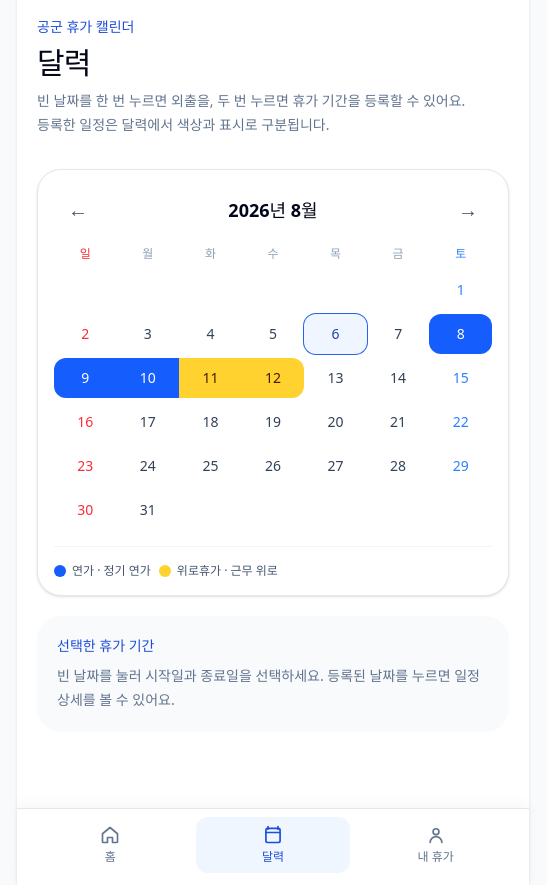
Test: 월간 달력 › 종류별 색상을 유지하면서 인접한 기록의 경계를 연결한다
This screenshot has width=547, height=885.
Click the button named "2026년 8월 10일, 연가". click: [148, 378]
box: [117, 358, 179, 398]
(page scrolled)
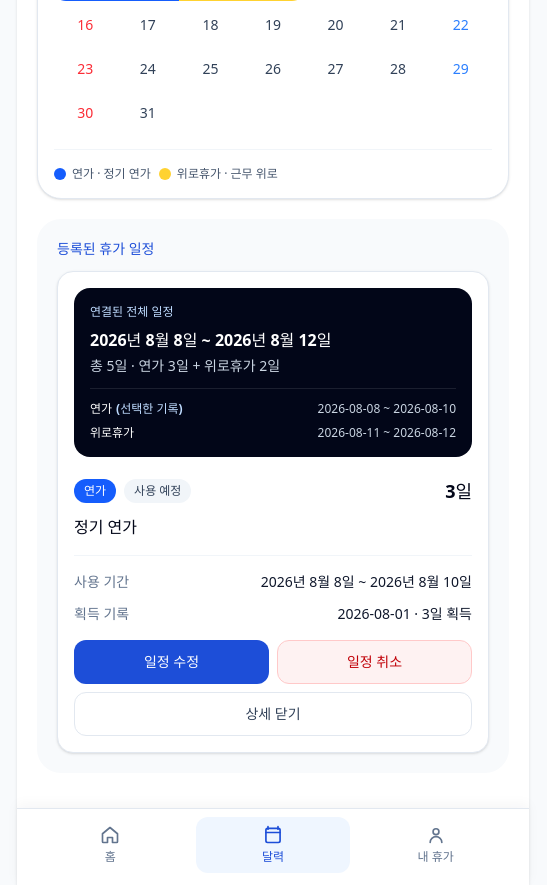
Check: the text "연결된 전체 일정" is shown, box [90, 303, 174, 320]
Check: the text "총 5일 · 연가 3일 + 위로휴가 2일" is shown, box [90, 356, 280, 375]
Check: the text "(선택한 기록)" is shown, box [116, 400, 183, 417]
Click the button "일정 취소". click: [374, 662]
box: [277, 640, 472, 684]
(page scrolled)
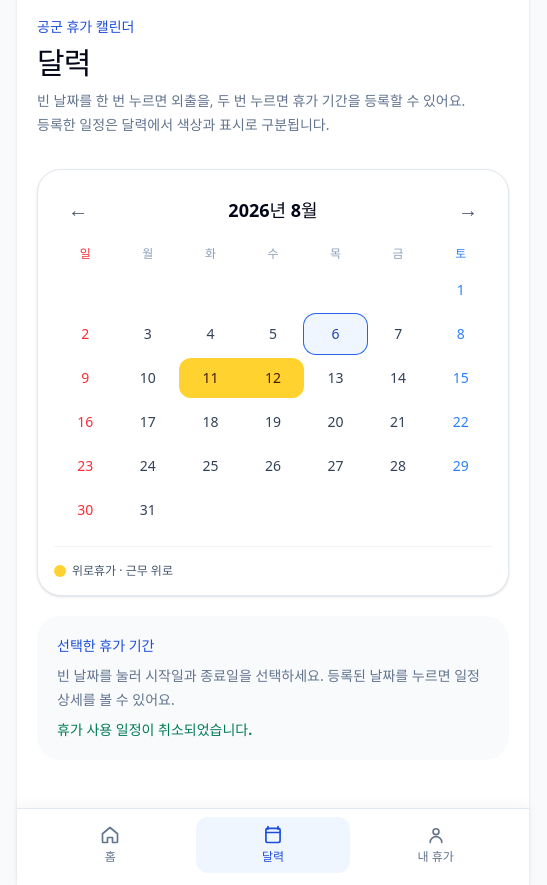
Click the button named "2026년 8월 11일, 위로휴가". click: [210, 378]
box: [179, 358, 242, 398]
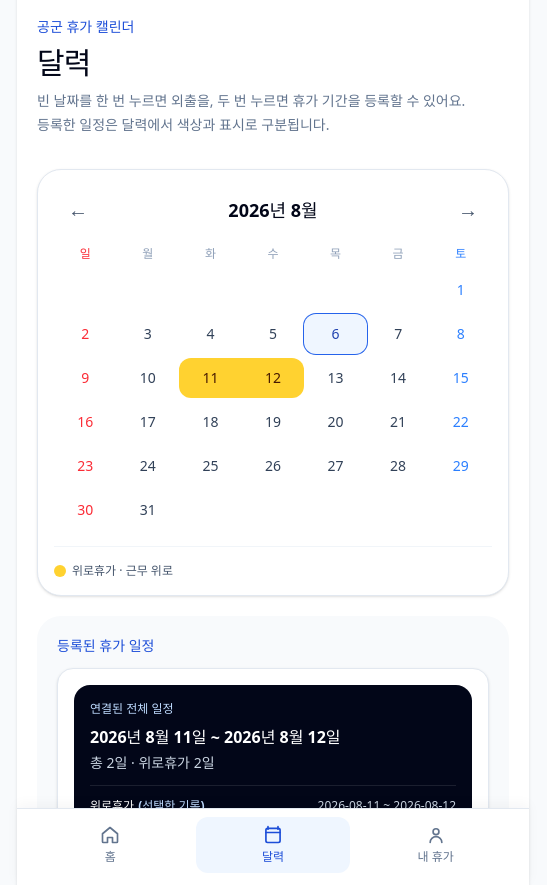
Check: the text "총 5일 · 연가 3일 + 위로휴가 2일" is not shown
Check: the text "총 2일 · 위로휴가 2일" is shown, box [90, 753, 214, 772]
Click the link "홈". click: [110, 845]
box: [100, 825, 120, 865]
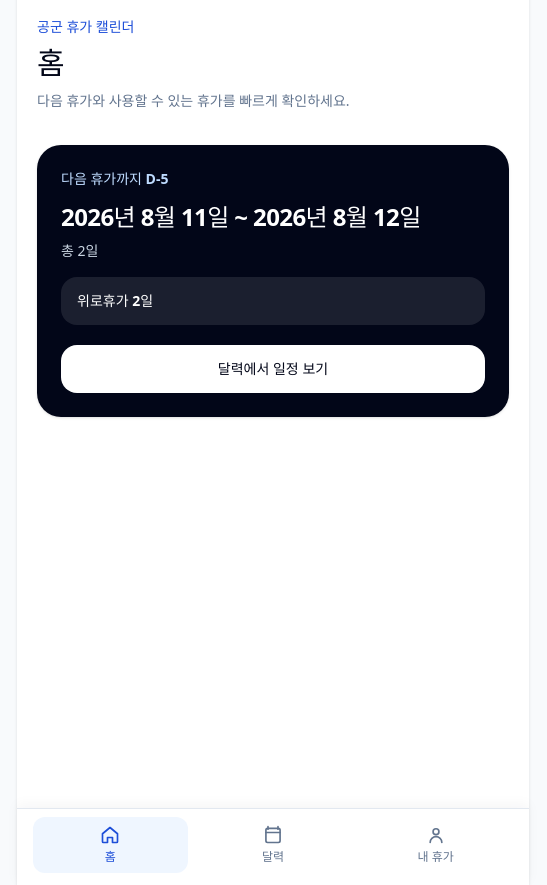
Check: the text "총 2일" is shown, box [61, 241, 98, 260]
Check: the text "다음 휴가까지 D-5" is shown, box [61, 169, 168, 188]
